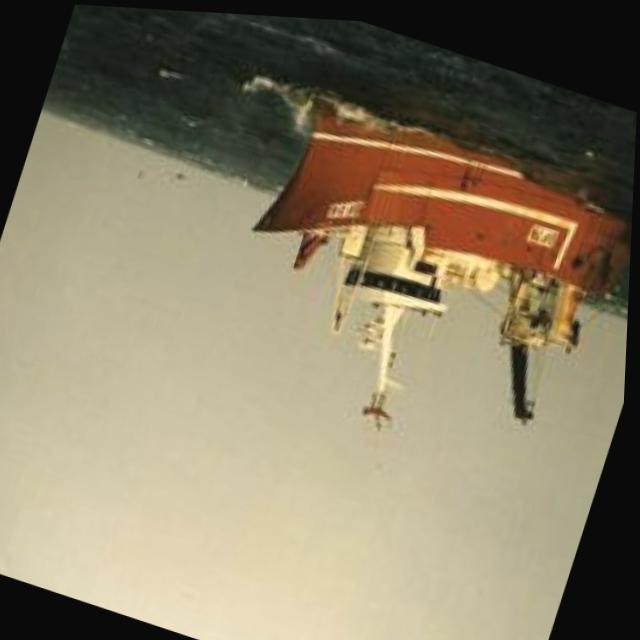ship2: (250, 100, 634, 420)
